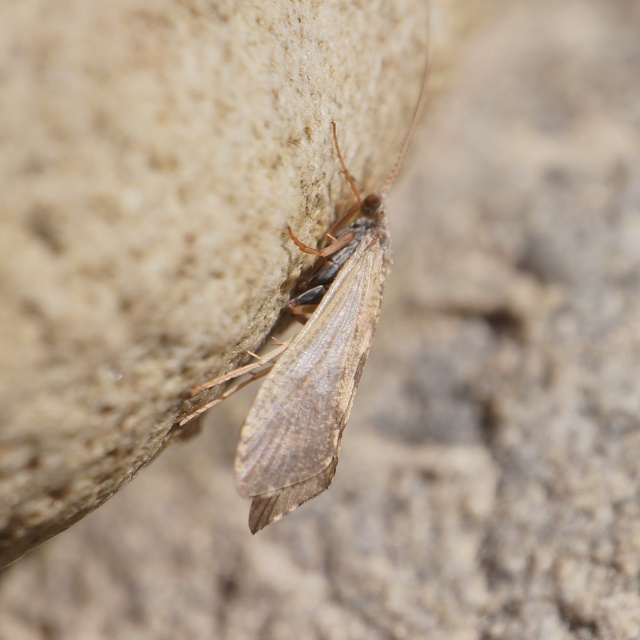Moths and butterflies: (183, 0, 426, 538)
